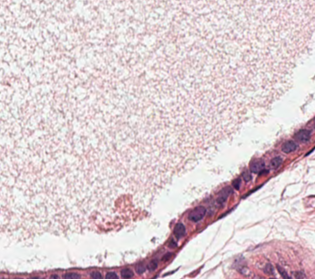nucleus: (189, 206, 205, 221), (217, 188, 230, 205), (174, 223, 185, 238), (296, 129, 309, 141), (282, 141, 296, 152), (250, 161, 264, 172), (277, 266, 288, 277), (271, 157, 281, 168), (264, 264, 273, 273), (121, 269, 131, 277), (148, 260, 156, 269), (162, 253, 172, 260), (233, 179, 240, 188), (136, 265, 145, 272), (243, 172, 250, 180), (106, 273, 116, 278), (91, 272, 100, 277), (65, 274, 78, 277), (170, 240, 176, 245)
